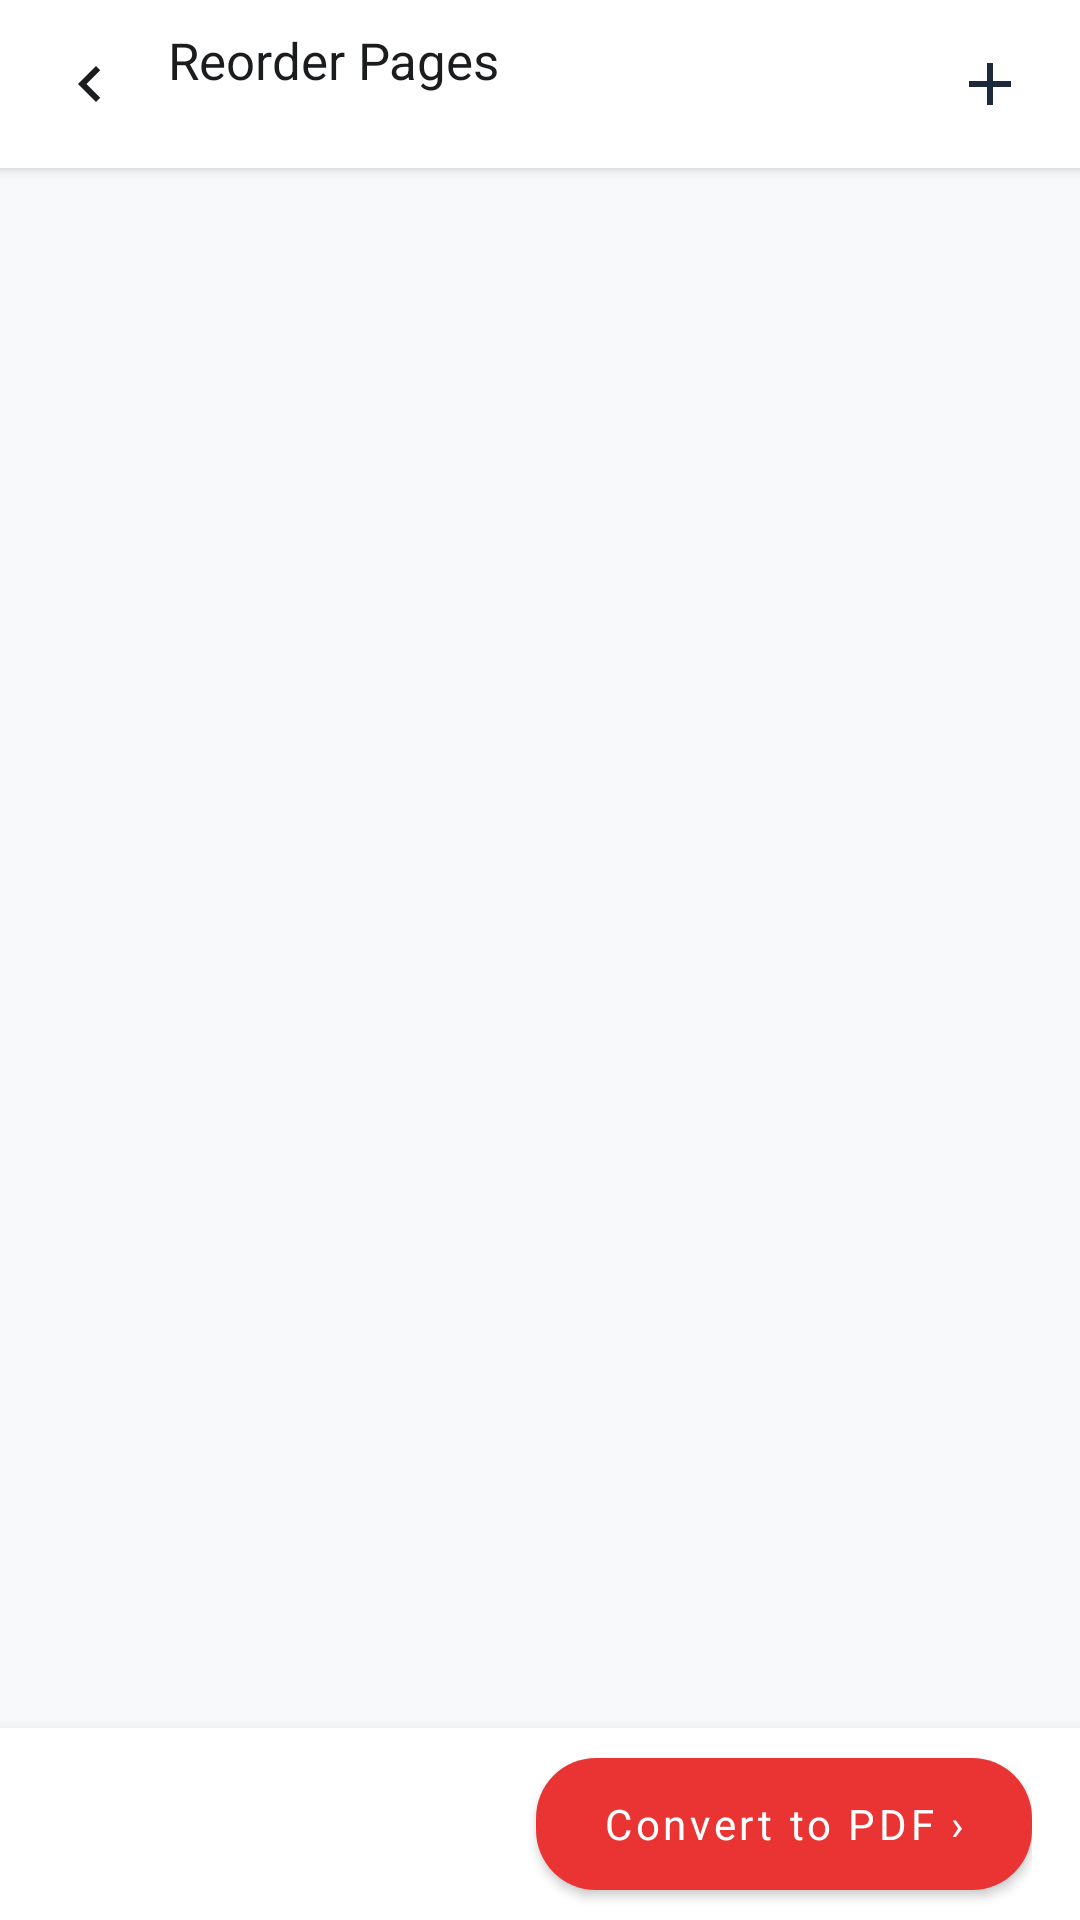

Where to tap for icons on this 1080 × 1920 app screen, as point (x, y):
add photo: point (990, 84)
viewer back: point (89, 84)
